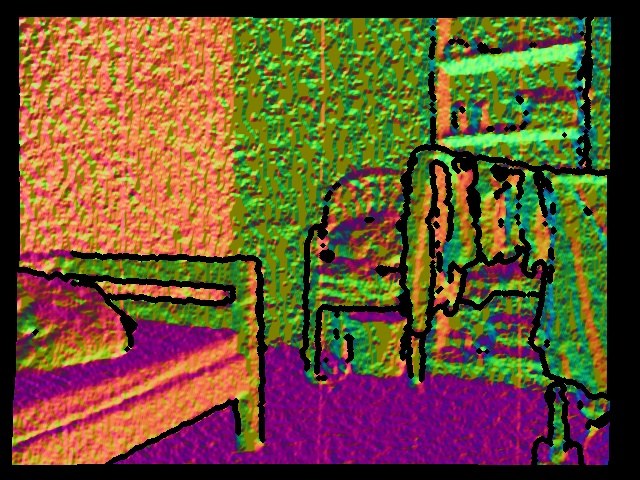station: (533, 384, 583, 466)
